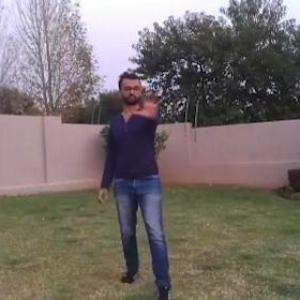follow_hand: (131, 79, 167, 122)
